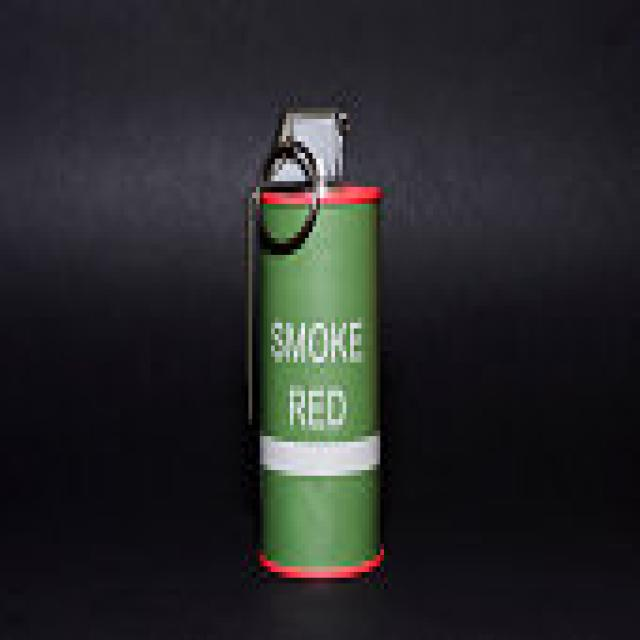grenade: (240, 104, 395, 586)
